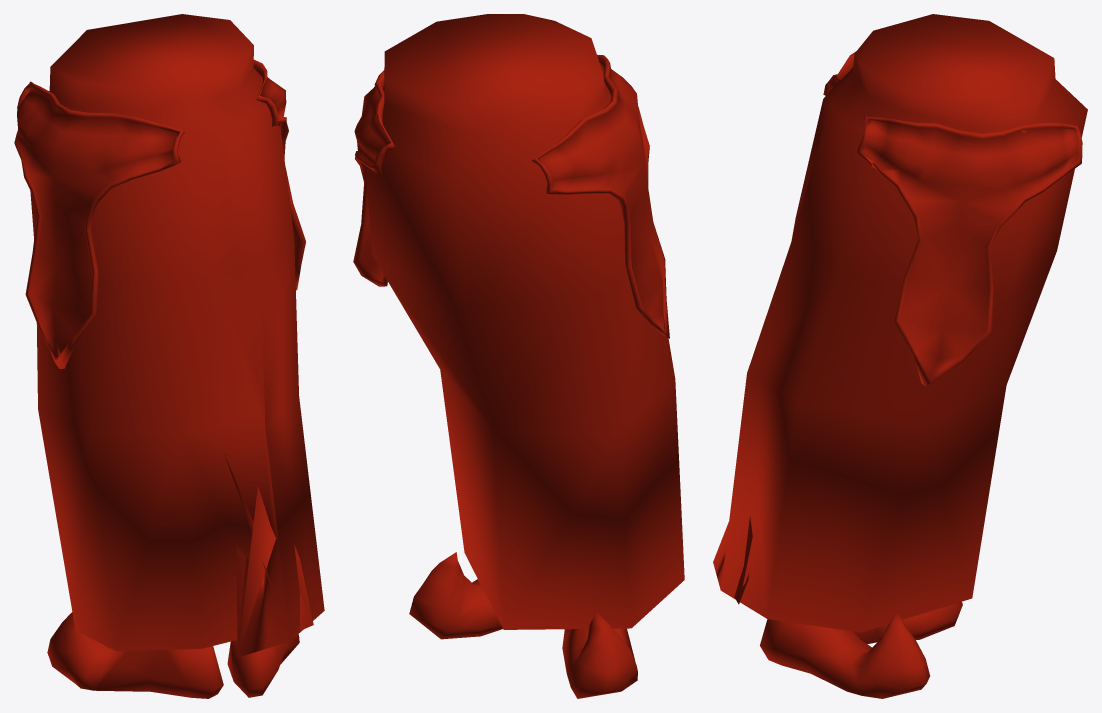
File: bot_000094.obj
3 views of the same model, side by side, from view 1: azimuth 30°, elevation 25°; view 2: azimuth 150°, elevation 25°; view 3: azimuth 270°, elevation 25° (orthographic). The views are drawn at different scales.
Visible parts, largest first — view 1: LowPoly_Warlock.004_Plane.004; view 2: LowPoly_Warlock.004_Plane.004; view 3: LowPoly_Warlock.004_Plane.004.
Boxes of the visible parts, <box> form: LowPoly_Warlock.004_Plane.004: <box>14,14,324,698</box>; LowPoly_Warlock.004_Plane.004: <box>353,14,684,698</box>; LowPoly_Warlock.004_Plane.004: <box>713,14,1087,698</box>.
Size of the model in its own units: 0.5123 by 1.12 by 0.6189.
